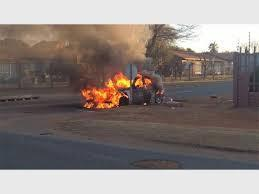fire: (78, 69, 156, 111)
